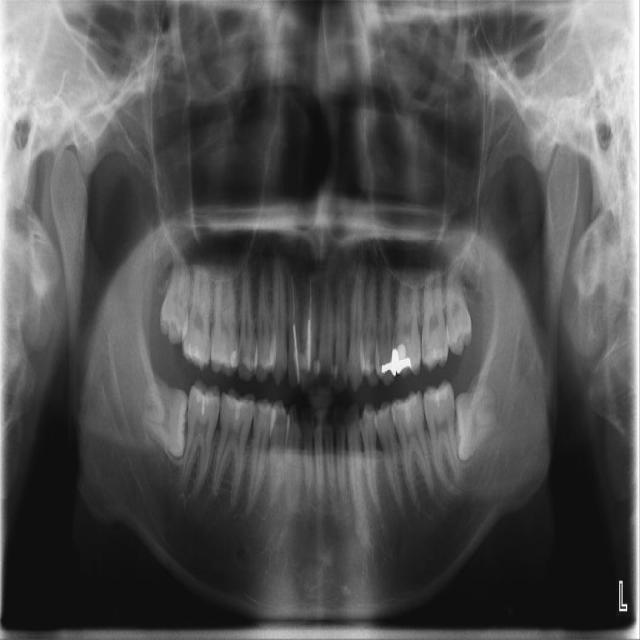Filling: (382, 343, 412, 376), (392, 391, 418, 423), (194, 386, 219, 415), (227, 395, 246, 420), (430, 384, 447, 407), (290, 351, 303, 381), (304, 355, 318, 380), (184, 342, 201, 359), (230, 350, 239, 368)
Root Canal Treatment: (289, 272, 293, 313), (310, 281, 314, 320)
impacted tooth: (138, 383, 189, 456), (457, 384, 502, 462)
